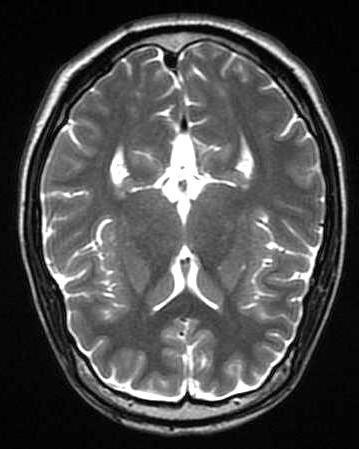Normal_Brain: (15, 1, 359, 449)
